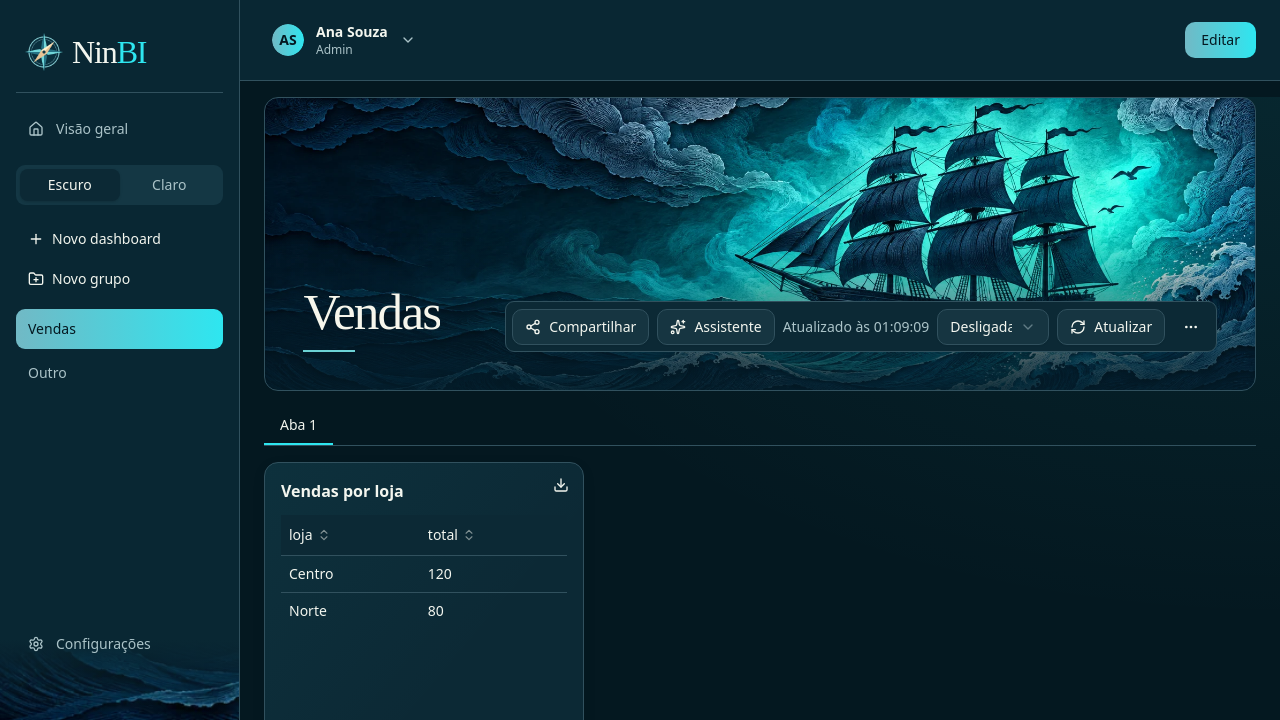
Test case: DashboardPage em edição › EDIT-02 Salvar envia o rascunho inteiro e volta à visualização
Click the button "Editar" at [1221, 40], box [1185,22,1256,58]
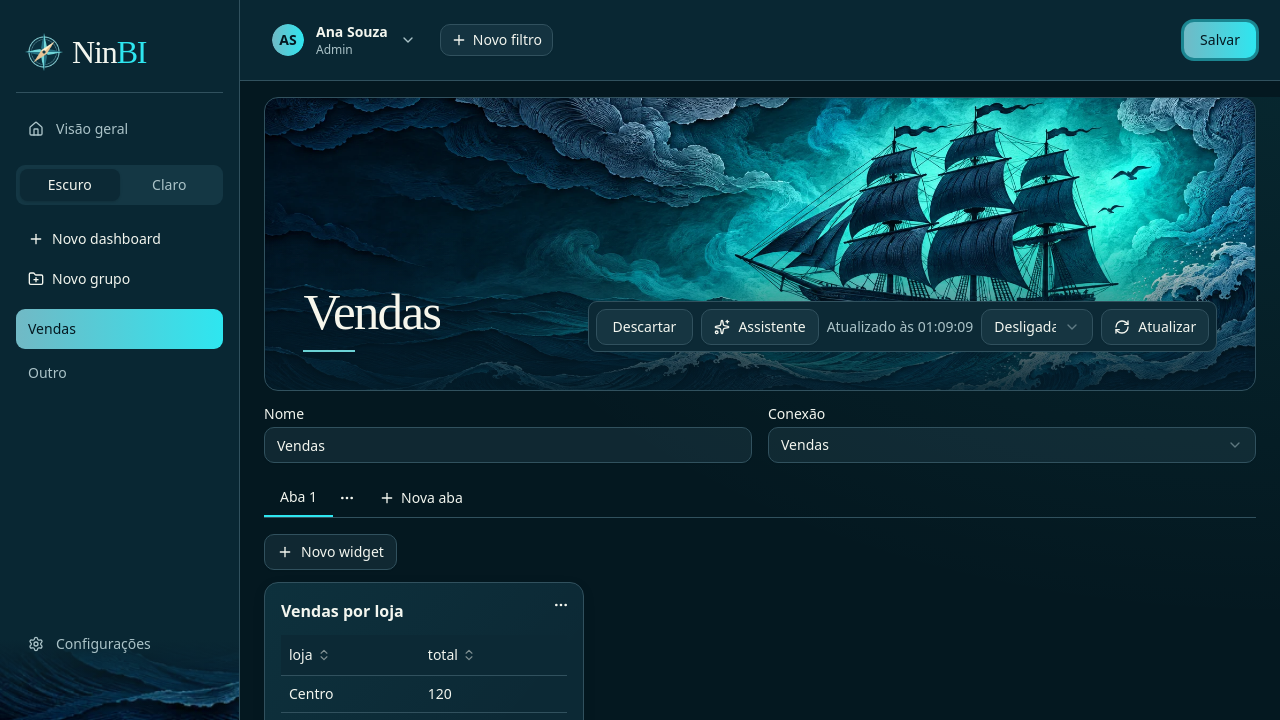
Replace the text in the field labelled "Nome" with "Vendas 2026" at [508, 445], box [264,427,752,463]
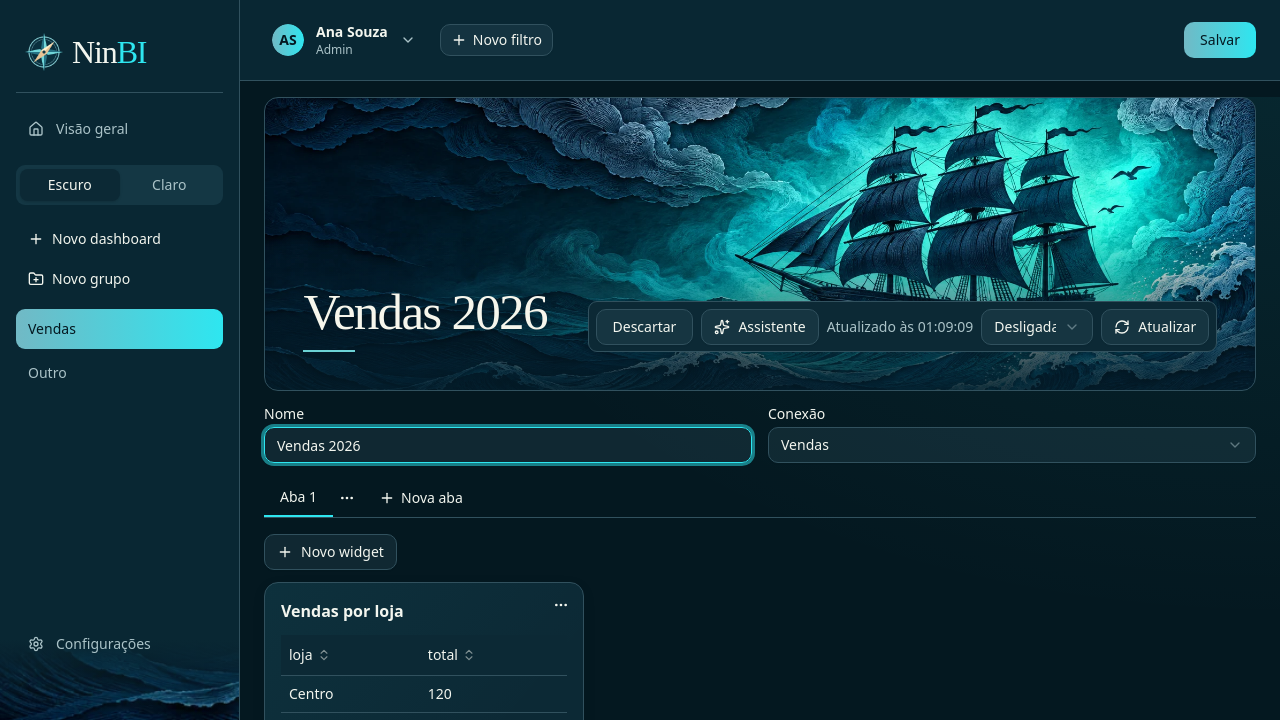
Click the button "Salvar" at [1220, 40], box [1184,22,1256,58]
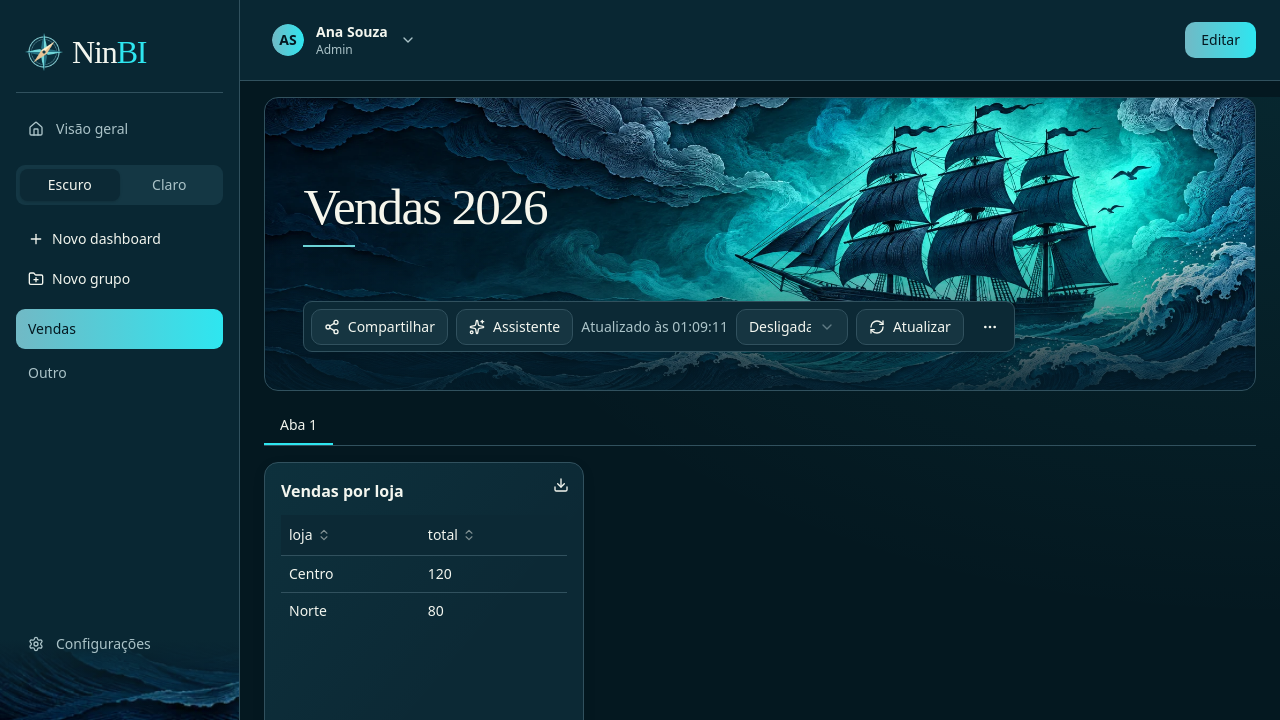
Check: the heading "Vendas 2026" is shown, box [303,178,547,247]
Check: the button "Editar" is shown, box [1185,22,1256,58]
Check: the button "Salvar" is gone
